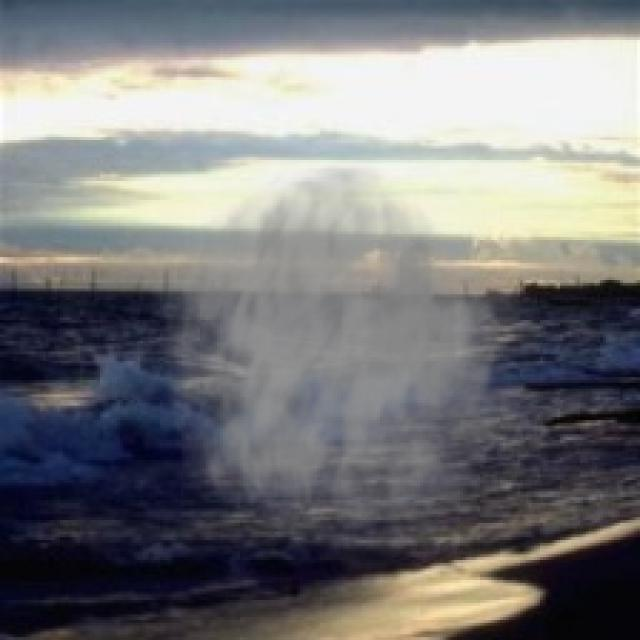smoke: (152, 163, 537, 580)
